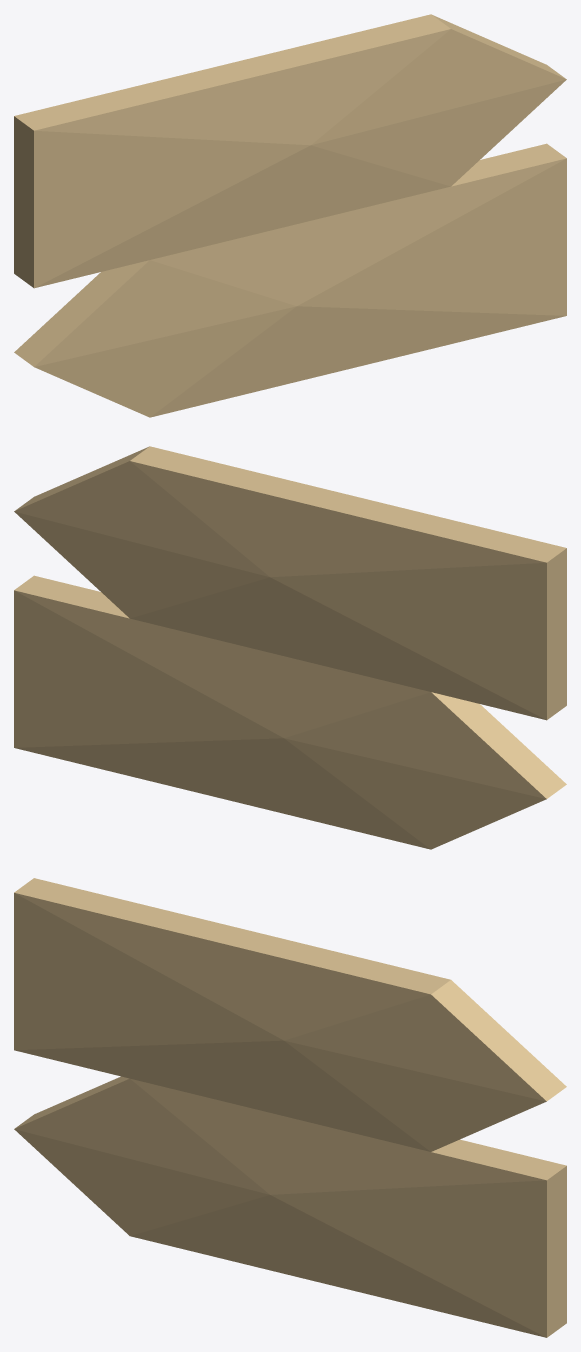
3 renders of one model, top to bottom at view 1: azimuth 30°, elevation 25°; view 2: azimuth 150°, elevation 25°; view 3: azimuth 330°, elevation 25°, orthographic.
Visible parts, largest first — view 1: 无文字折纸指向牌.001; view 2: 无文字折纸指向牌.001; view 3: 无文字折纸指向牌.001.
Part boxes in pixels (x1=…): 无文字折纸指向牌.001: x1=14, y1=14, x2=566, y2=417; 无文字折纸指向牌.001: x1=14, y1=446, x2=566, y2=849; 无文字折纸指向牌.001: x1=14, y1=878, x2=566, y2=1337.
Bounding box in the file's own units: 0.46 × 0.26 × 0.04.
